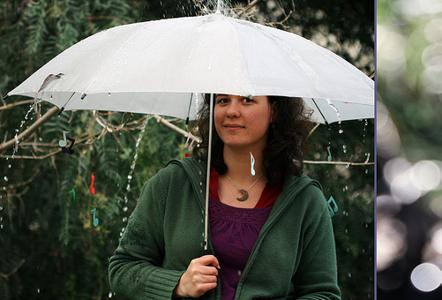person: (108, 93, 343, 300)
